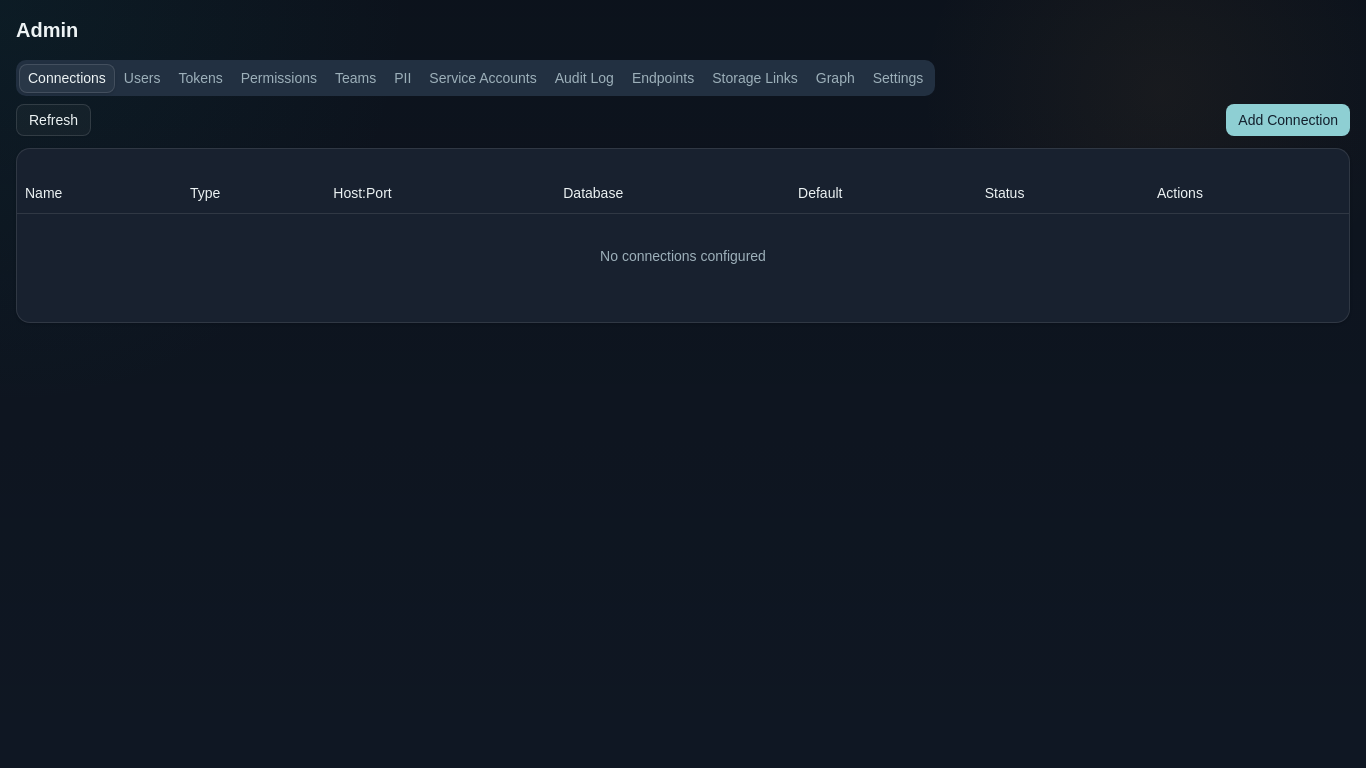
Test: AdminPage › can dismiss error banner
Switch to Users tab
Click the tab "Users": click(142, 78) [115,64,169,92]
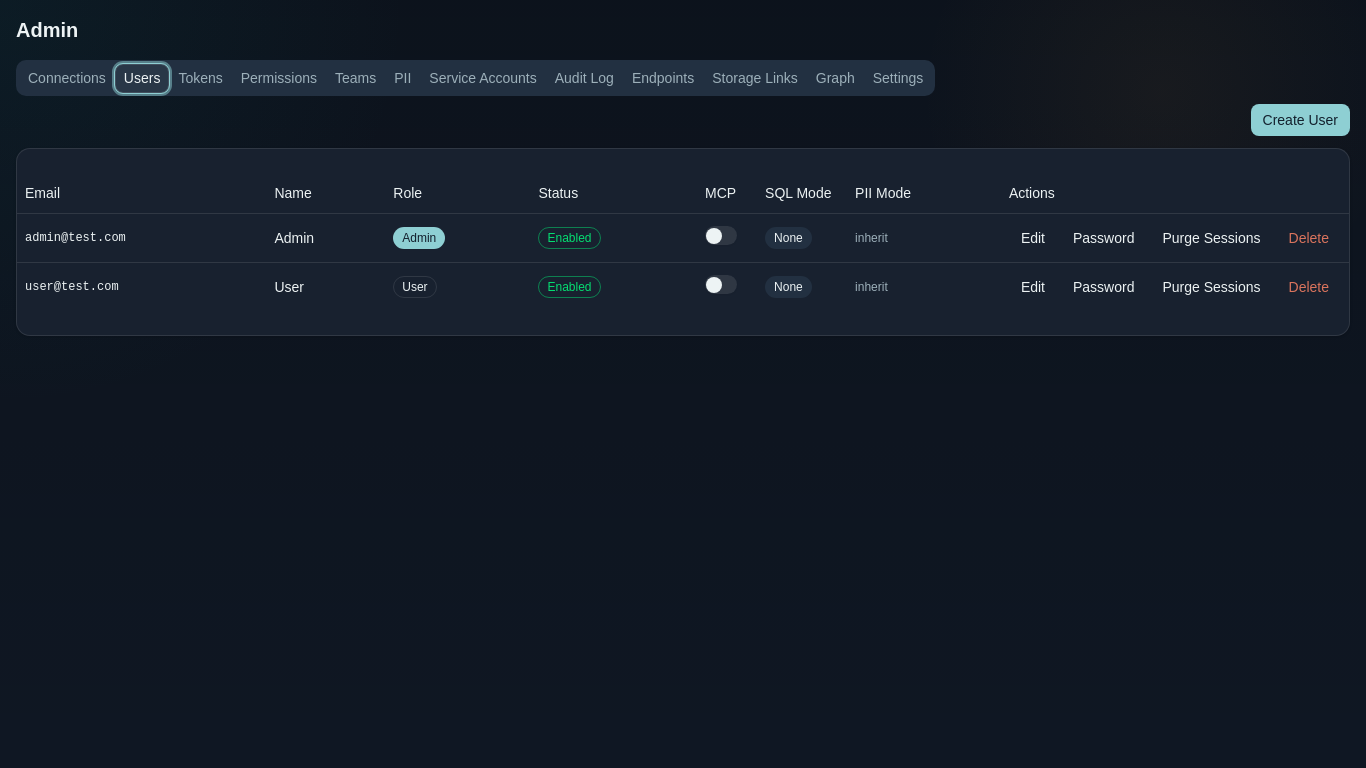
Now the text "admin@test.com" is shown, box [17,213,266,262]
Click the tab "Tokens": click(201, 78) [169,64,232,92]
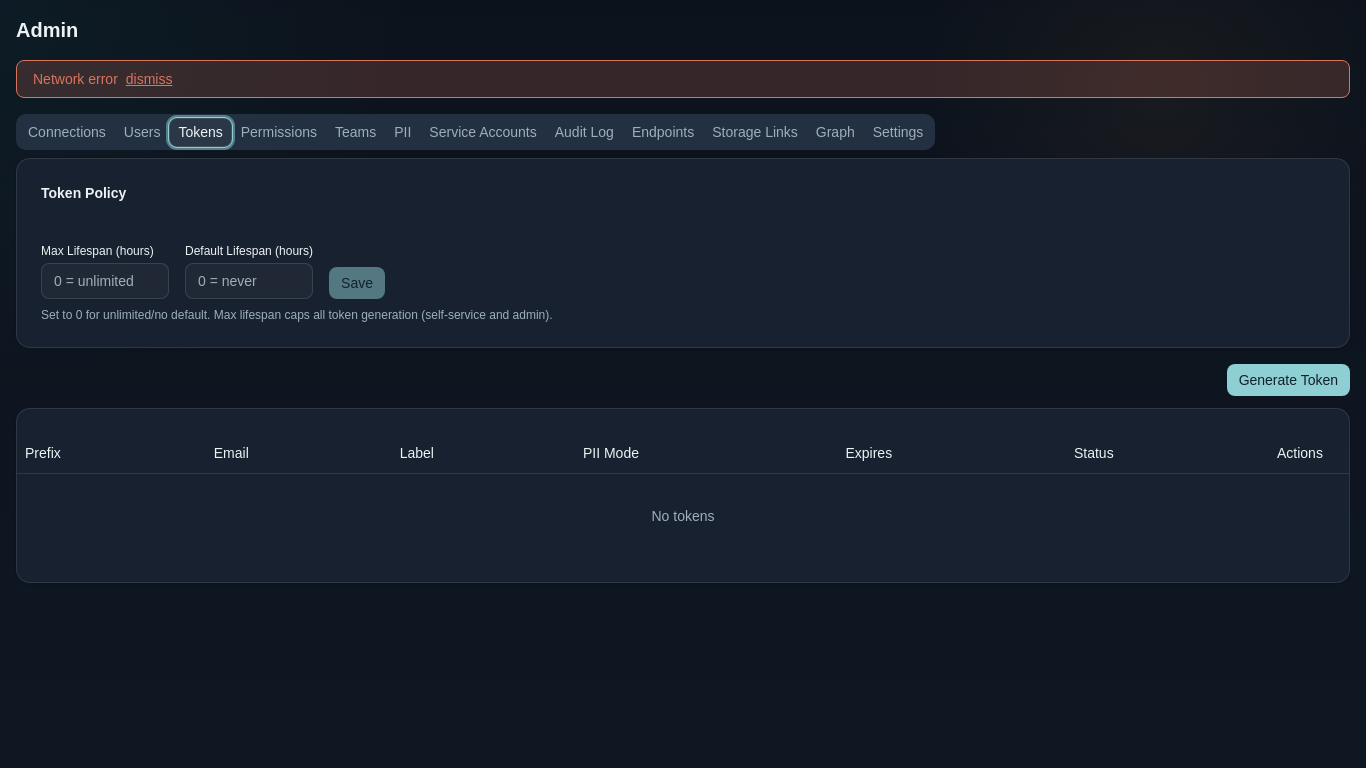
Now the button "dismiss" is shown, box [126,69,172,89]
